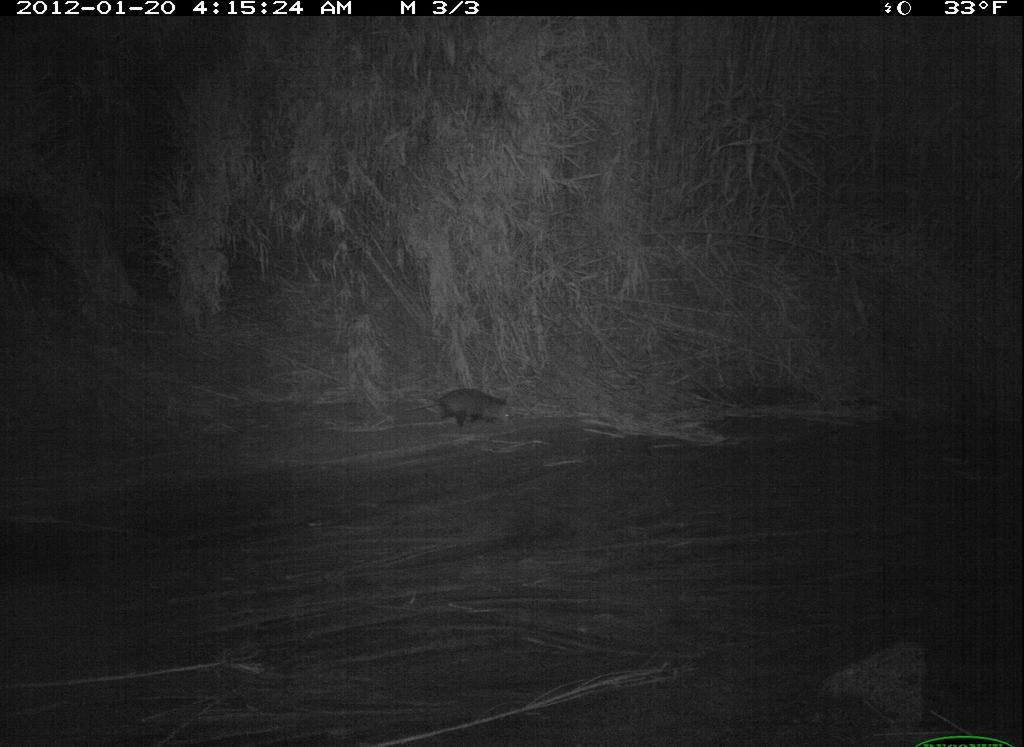opossum: (419, 387, 529, 434)
